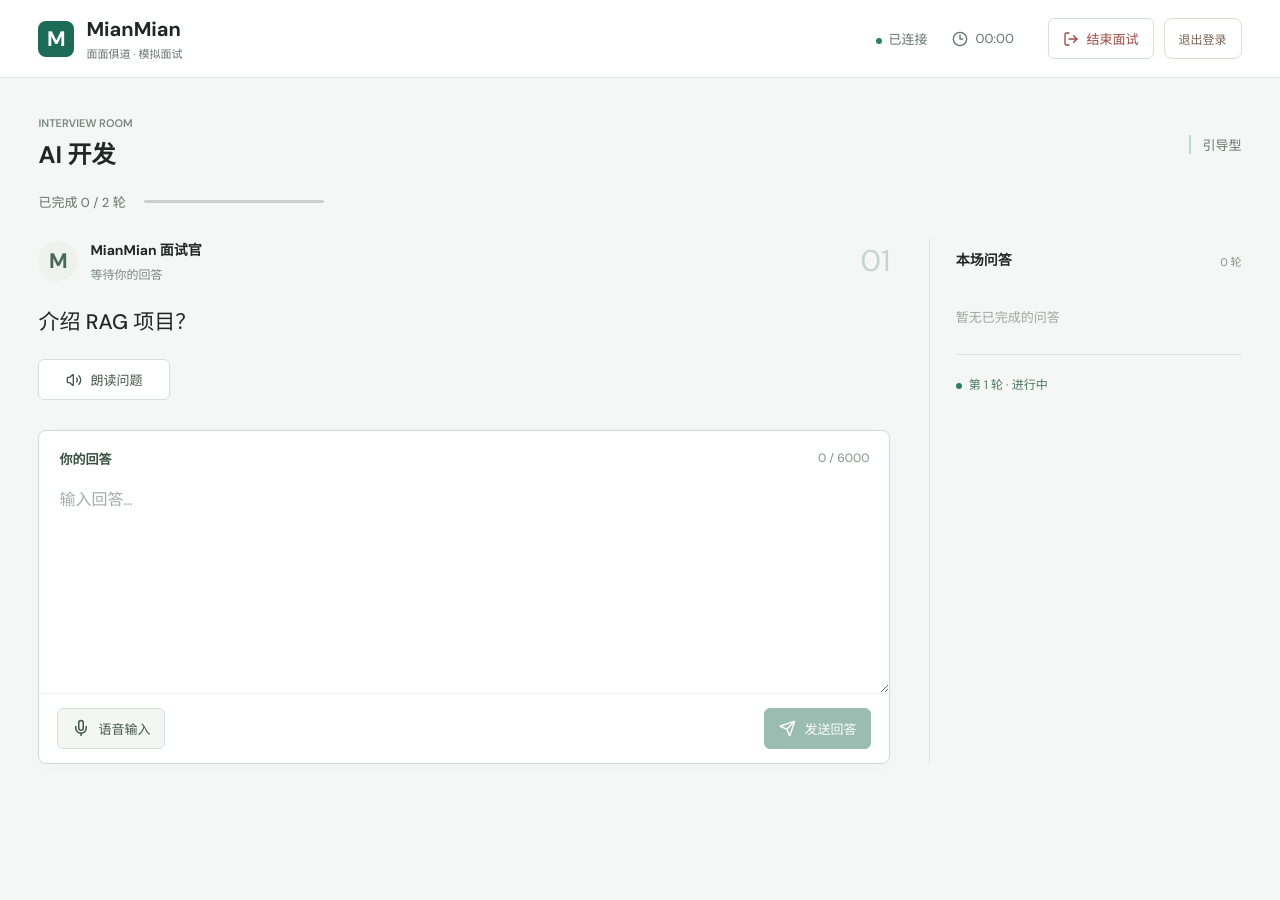
Test: Interview room › allows retry after speech synthesis fails
Click the button "朗读问题" at (104, 380), box [38,359,170,400]
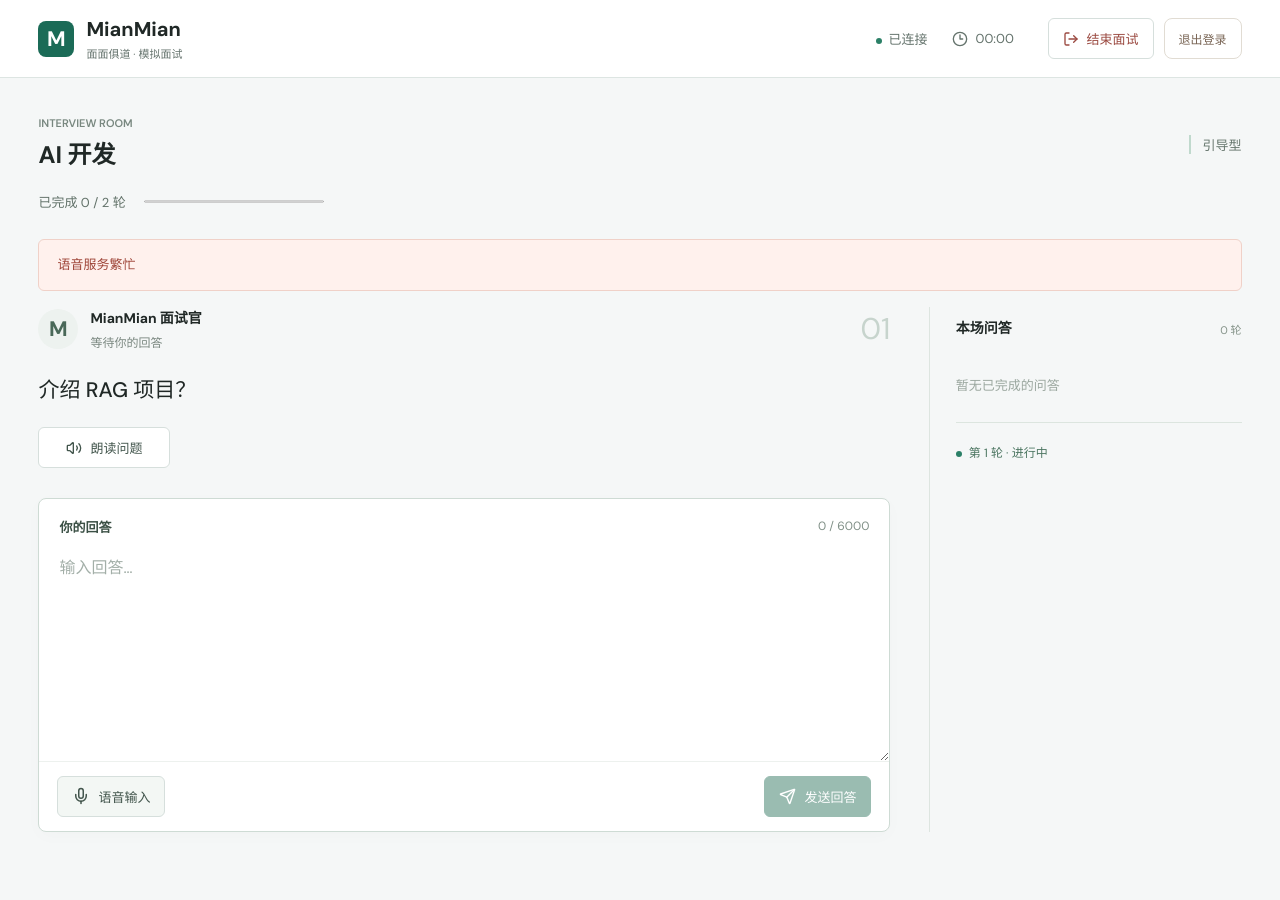
Check: the button "朗读问题" is enabled, box [38,427,170,468]
Check: the text "语音服务繁忙" is shown, box [38,239,1242,291]
